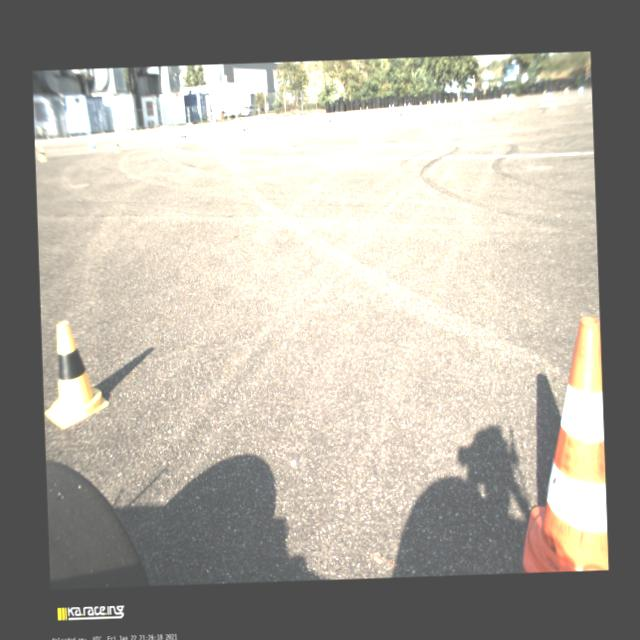blue_cone: (88, 137, 95, 149), (543, 94, 549, 102), (492, 98, 497, 107), (318, 114, 323, 122), (178, 128, 182, 138), (244, 121, 248, 130), (378, 109, 382, 118), (438, 103, 442, 111), (463, 98, 466, 105), (418, 101, 422, 106), (403, 102, 406, 108), (433, 100, 436, 106), (577, 89, 580, 95), (388, 104, 391, 110), (508, 95, 510, 102), (392, 104, 394, 110), (408, 102, 410, 108)
large_orange_cone: (515, 313, 608, 572)
yellow_cone: (41, 320, 109, 428), (38, 146, 46, 162), (548, 98, 556, 110), (114, 138, 120, 152), (240, 125, 247, 136), (182, 131, 187, 143), (327, 118, 332, 128), (454, 106, 458, 116), (399, 111, 403, 119), (542, 92, 546, 98), (428, 100, 431, 106), (452, 98, 454, 105), (474, 98, 477, 102), (444, 99, 446, 105), (426, 100, 428, 106)
